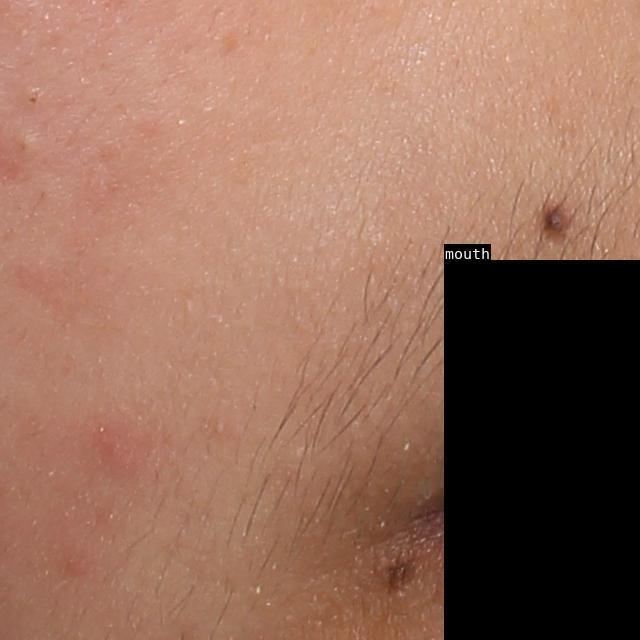comedo: (12, 126, 42, 158), (19, 85, 47, 112)
nevus: (538, 198, 577, 243), (384, 559, 421, 600)
